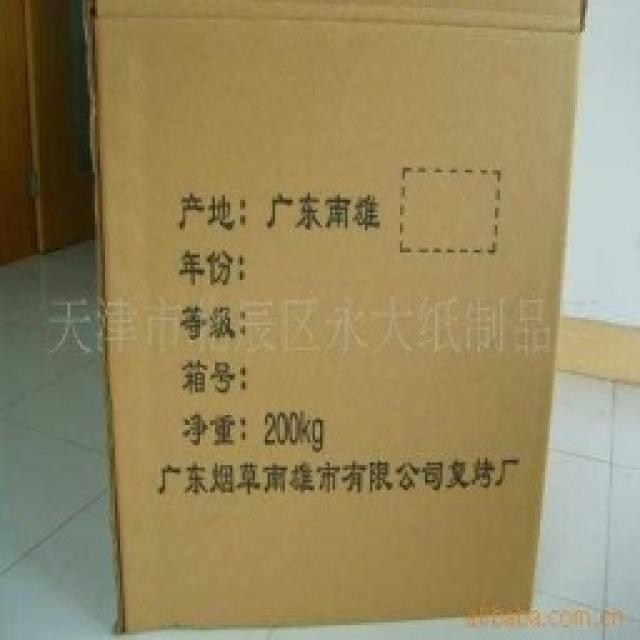box: (80, 0, 605, 637)
